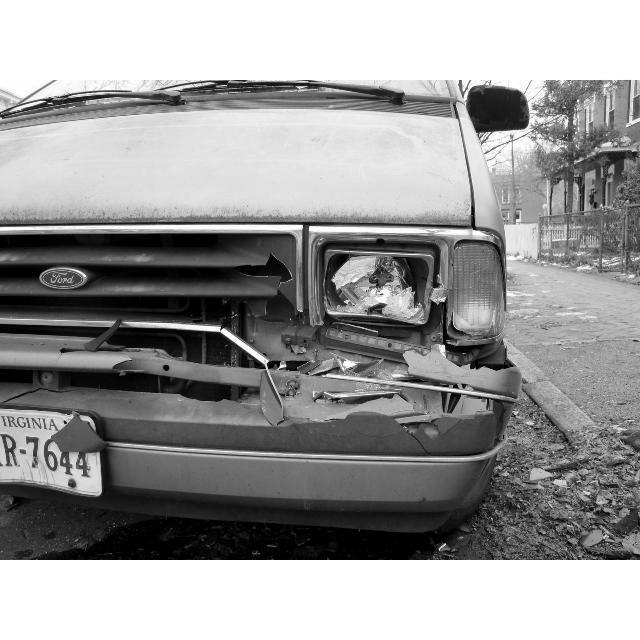Headlight-damage: (272, 233, 482, 435)
